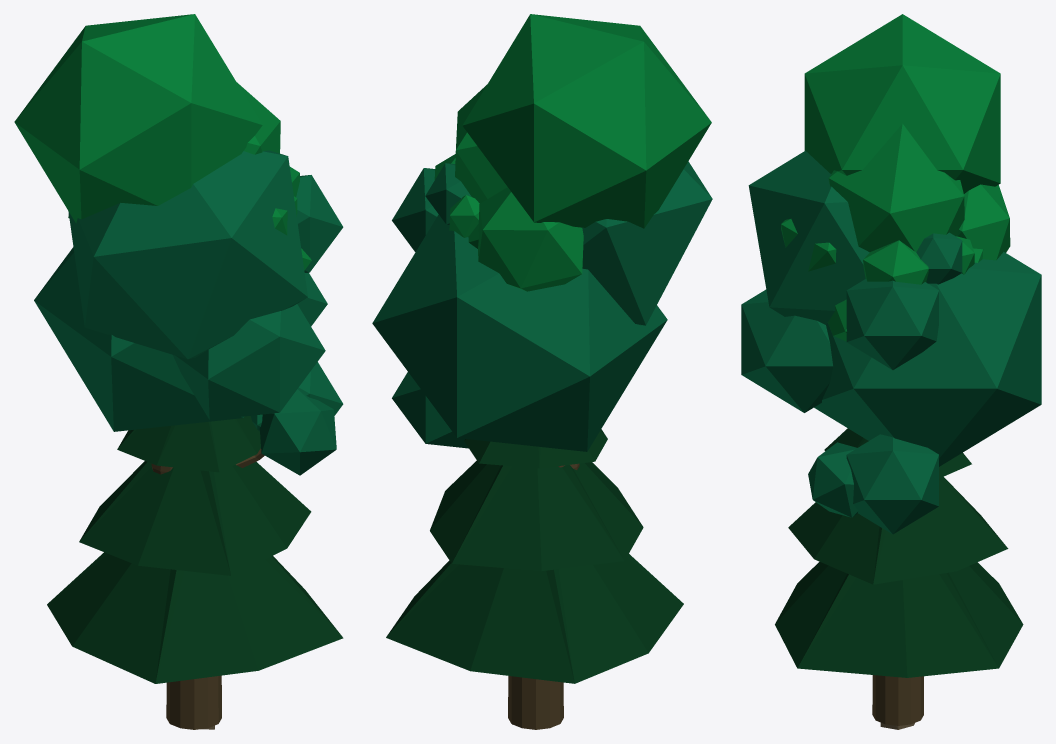
File: trees_v1.fbx
3 renders of one model, left to right at view 1: azimuth 30°, elevation 25°; view 2: azimuth 150°, elevation 25°; view 3: azimuth 270°, elevation 25°, orthographic. The views are drawn at different scales.
Visible parts, largest first — view 1: strom1, strom3, strom2; view 2: strom1, strom2, strom3; view 3: strom1, strom2, strom3.
Boxes of the visible parts, x1,y1,x2,y2 form: strom1: (34, 150, 343, 729); strom3: (47, 416, 343, 729); strom2: (14, 14, 311, 270); strom1: (372, 161, 712, 729); strom2: (434, 14, 711, 291); strom3: (386, 429, 683, 724); strom1: (741, 150, 1041, 725); strom2: (781, 14, 1010, 341); strom3: (775, 428, 1023, 729).
Bounding box in the file's own units: 293 × 720 × 297.
